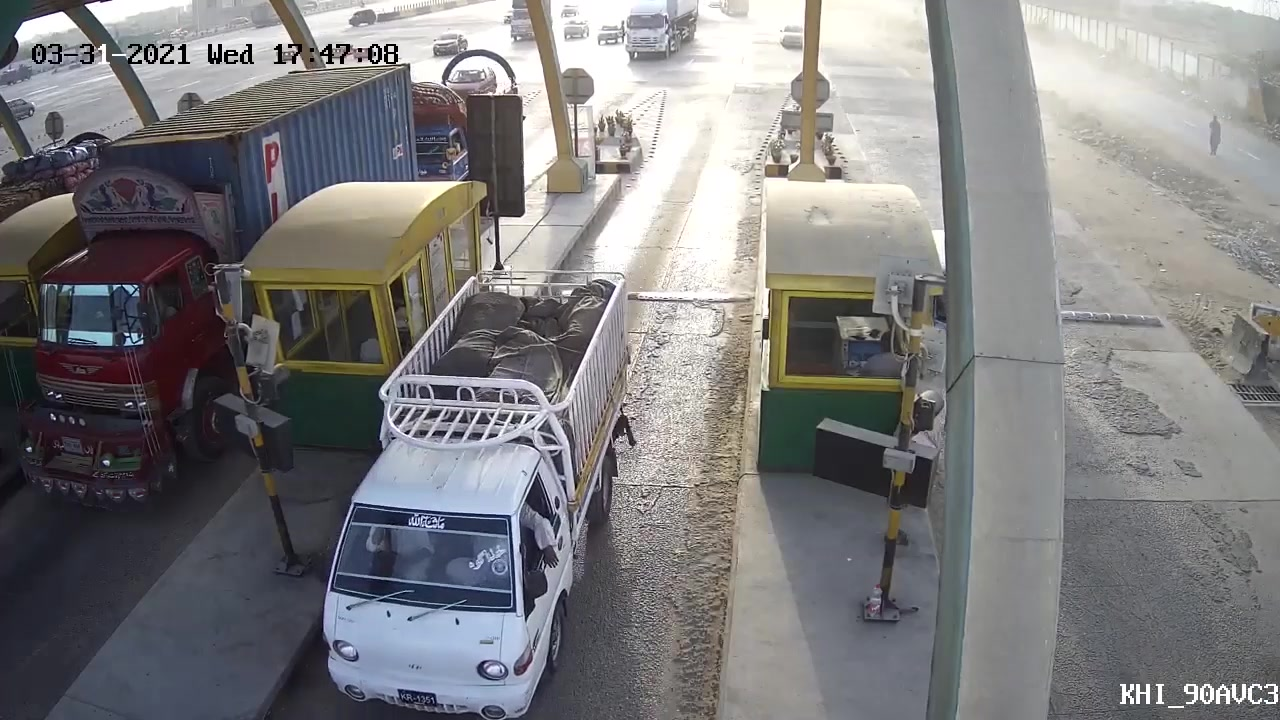F1: (305, 266, 621, 705)
